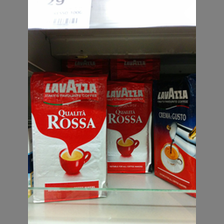coffee: (30, 70, 108, 203), (154, 77, 196, 198), (107, 79, 153, 174)
